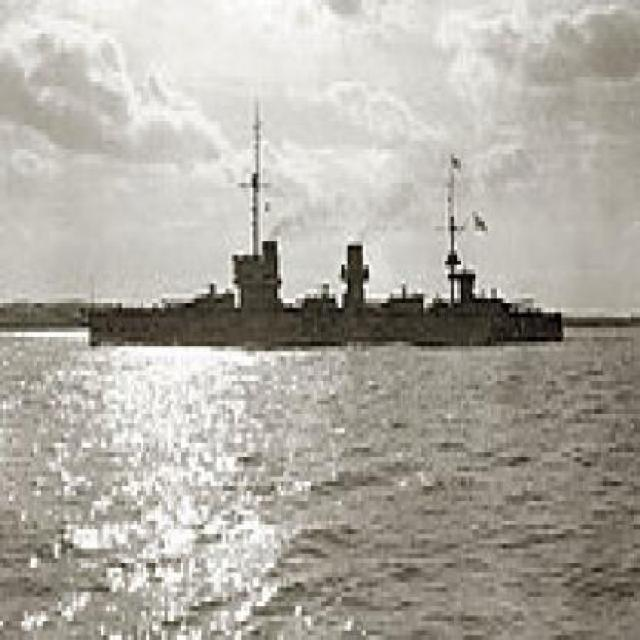warship2: (77, 83, 577, 363)
